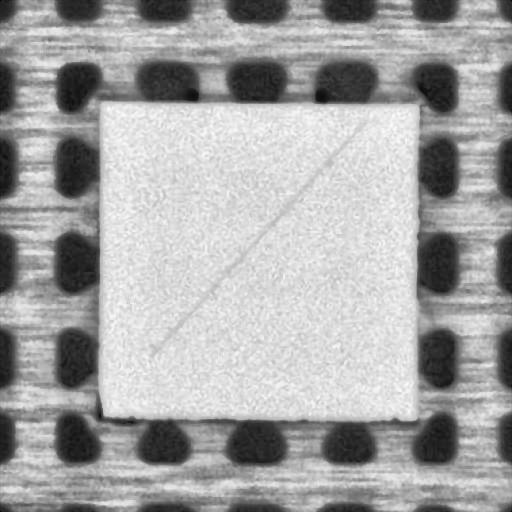DIE_CRACK: (148, 121, 364, 356)
